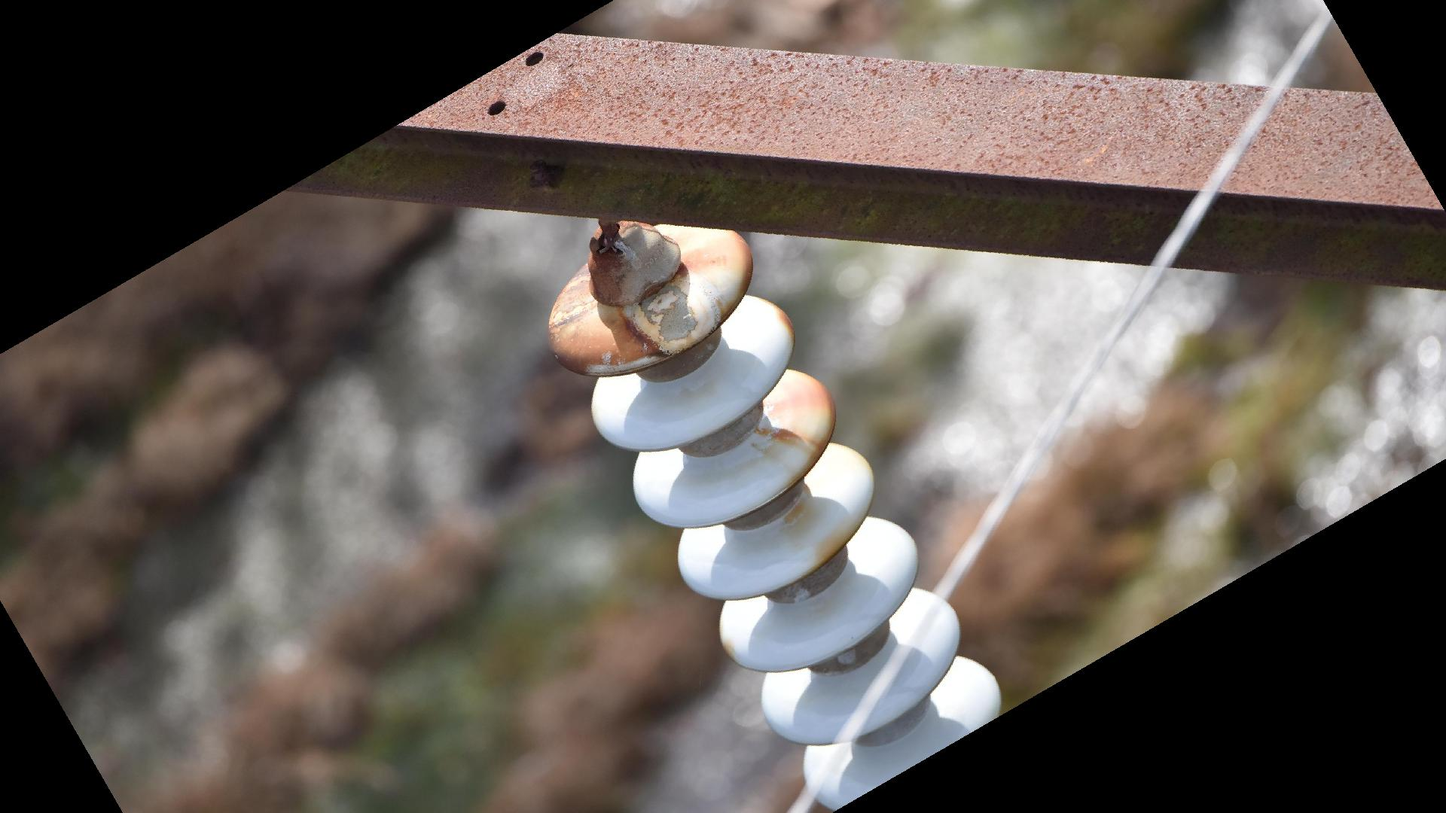insulator: (541, 218, 1009, 813)
insulator_flashover: (619, 269, 725, 360)
